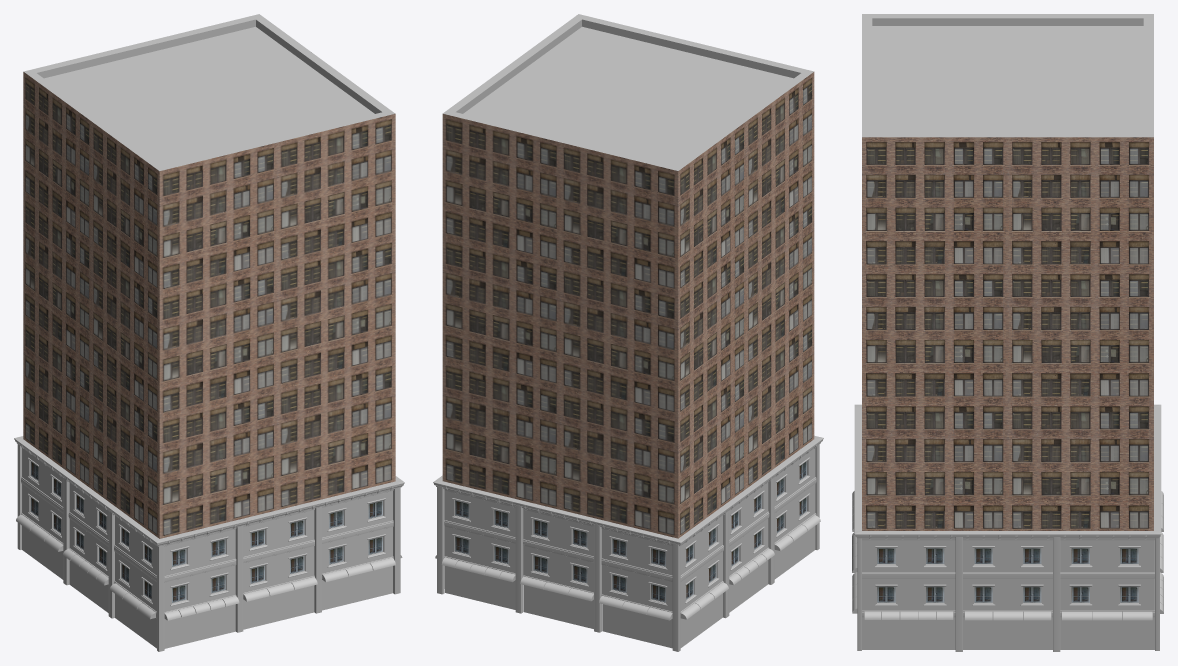
Rendered from High RIse Building 38.fbx.
3 views of the same model, side by side, from view 1: azimuth 30°, elevation 25°; view 2: azimuth 150°, elevation 25°; view 3: azimuth 270°, elevation 25° (orthographic). The views are drawn at different scales.
Parts seen in each view (by area): view 1: Top, Part_2, Part_1, Base; view 2: Top, Part_2, Part_1, Base; view 3: Top, Base, Part_2, Part_1.
Part boxes in pixels (x1,y1,x2,y2): Top: [23, 14, 395, 294]; Part_2: [23, 195, 395, 417]; Part_1: [23, 318, 395, 538]; Base: [14, 436, 404, 651]; Top: [442, 14, 814, 294]; Part_2: [442, 195, 814, 417]; Part_1: [442, 319, 814, 538]; Base: [433, 435, 823, 651]; Top: [862, 14, 1153, 269]; Base: [852, 404, 1163, 651]; Part_2: [862, 269, 1153, 401]; Part_1: [862, 401, 1153, 530].
Size of the model in its own units: 2563 by 4650 by 2565.
